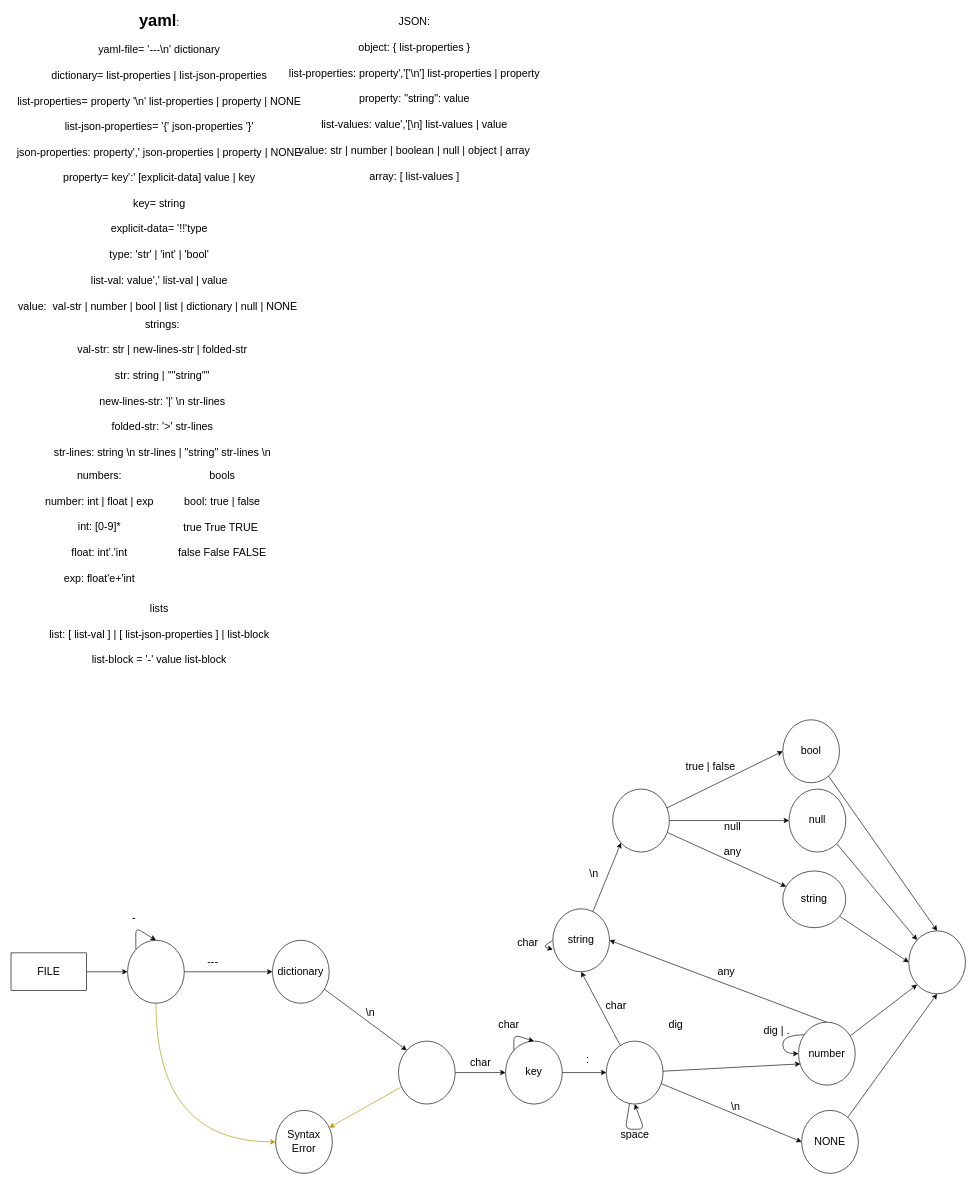
The diagram is 977 pixels wide and 1184 high, and some of its shapes have lost their labels. Here are the shapes that lost their labels. From the top down, the centre of each, then its label:
the point at 640,820: define str
the point at 155,971: yaml-file
the point at 936,962: Done
the point at 426,1072: property
the point at 634,1072: value
